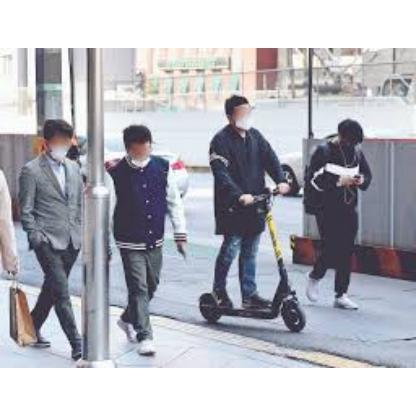with scooter: (200, 96, 306, 333)
without scooter: (104, 125, 187, 356), (20, 120, 82, 360), (304, 119, 373, 310)
